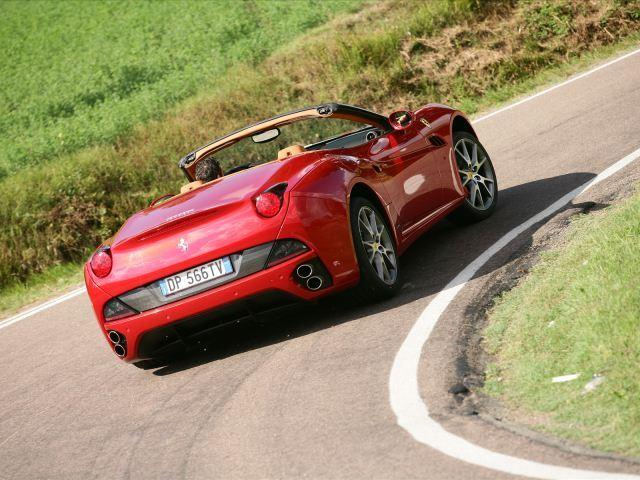car: (68, 97, 524, 372)
